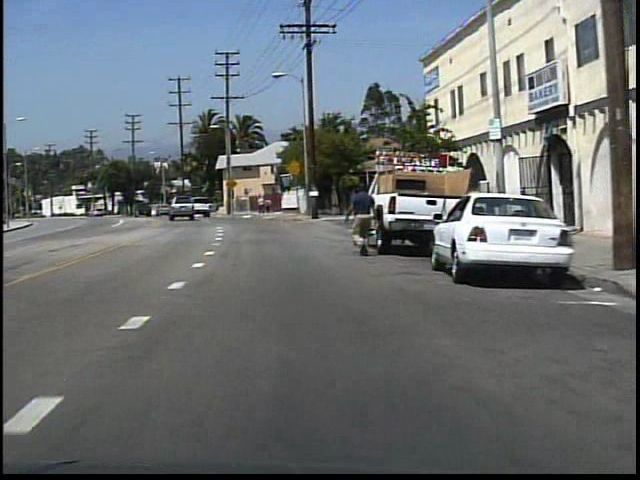person: (343, 182, 383, 258), (255, 194, 265, 216), (264, 197, 274, 215)
